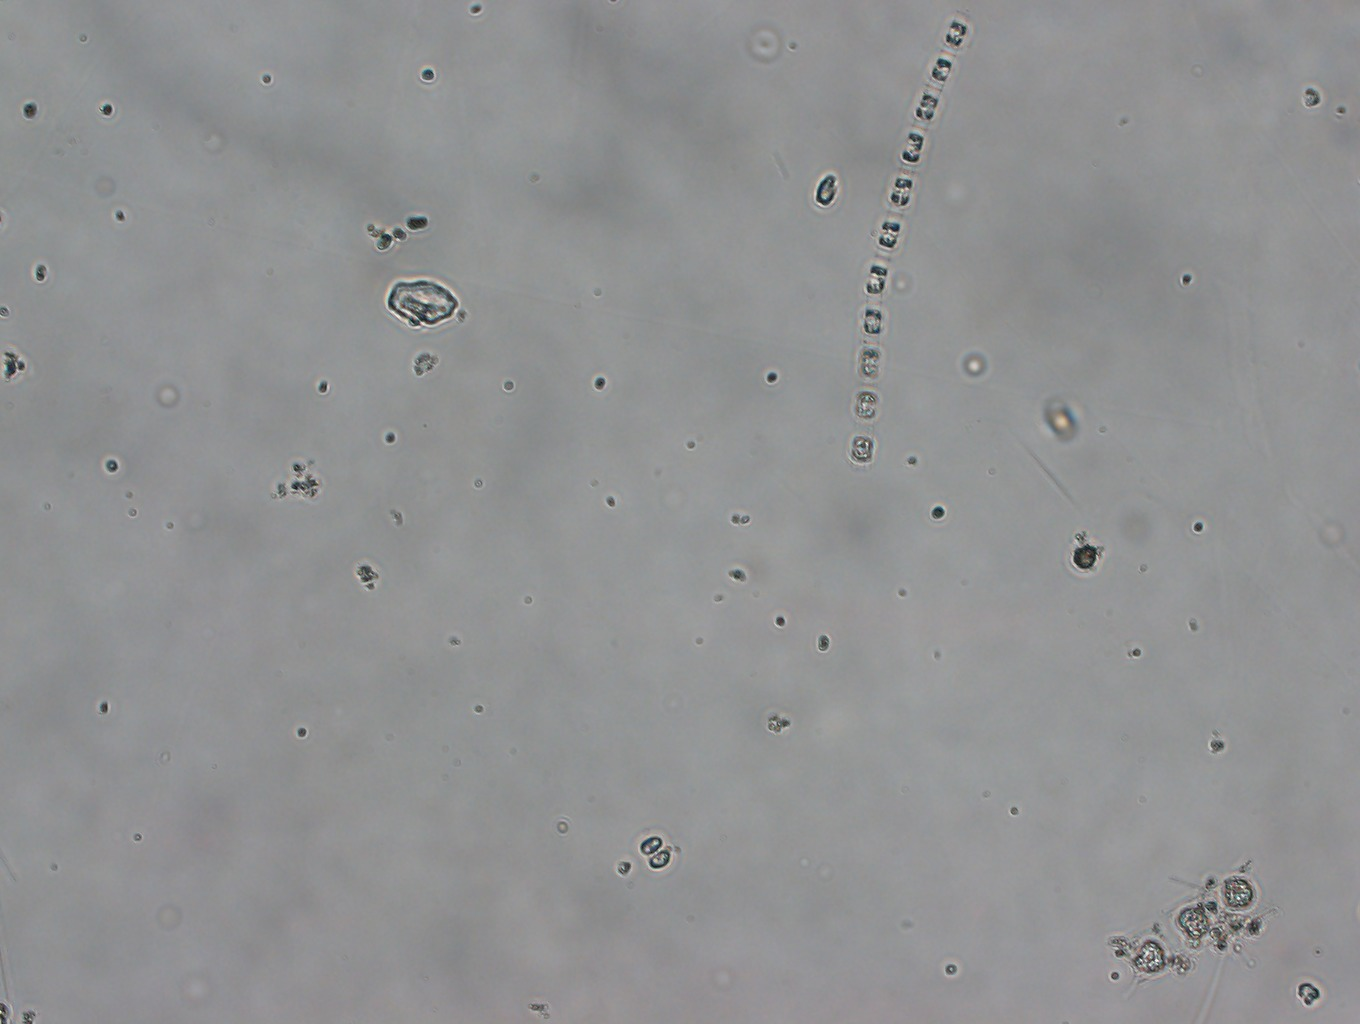skeletonema: (834, 8, 990, 472)
